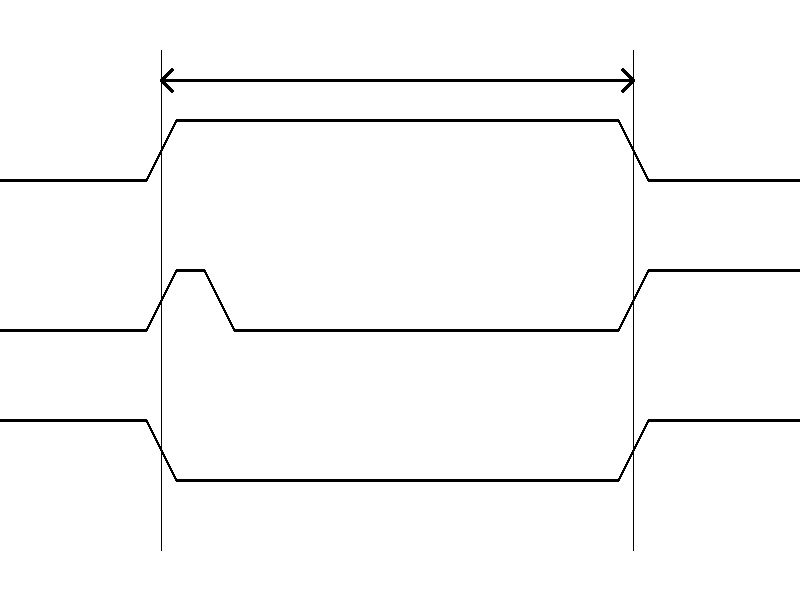double_arrow: (161, 65, 633, 95)
